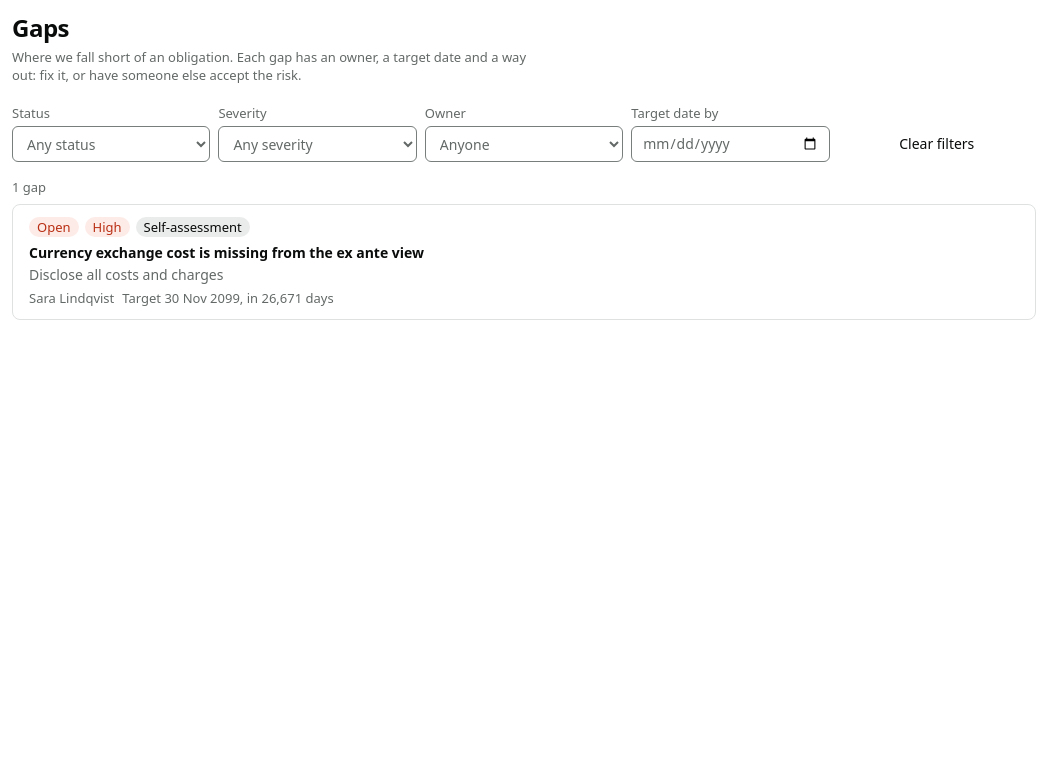
Test: the gaps list › lists each gap with its pills, obligation, entity, owner and target, and opens its record
Check: the text "Disclose all costs and charges" is shown, box [29,265,223,284]
Check: the text "Sara Lindqvist" is shown, box [29,289,114,307]
Click the button "Currency exchange cost is missing from the ex ante view" at [227, 253], box [29,243,424,263]
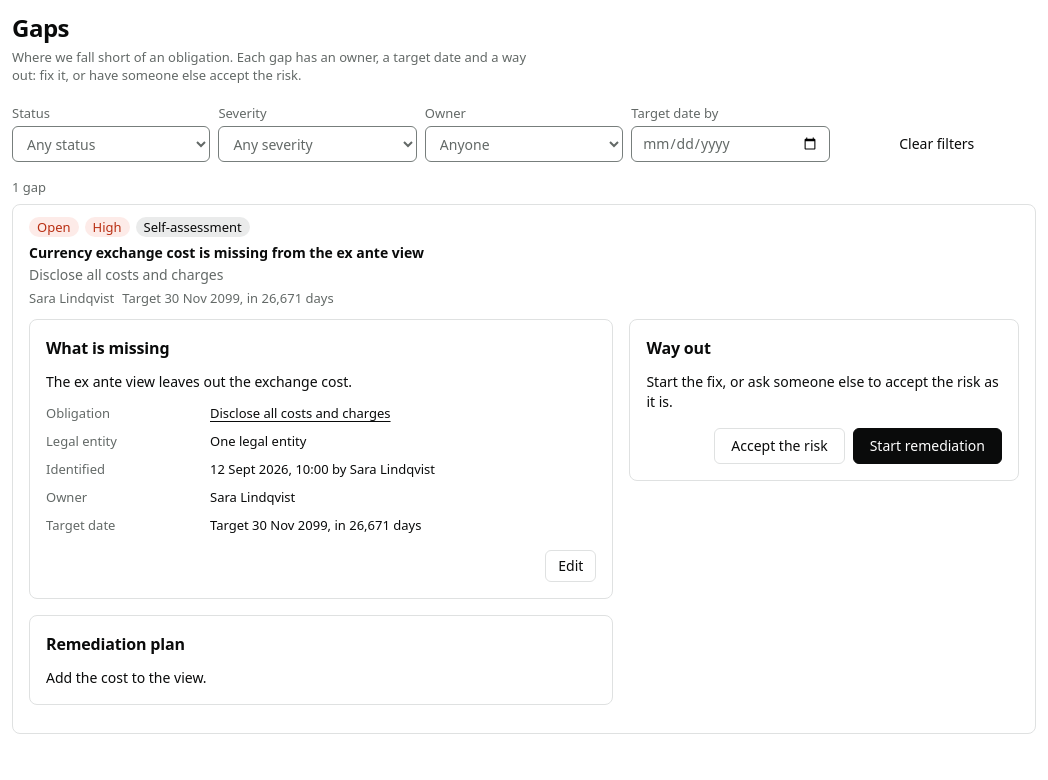
Check: the element that starts with "What is missing" is shown, box [29,319,1019,721]
Check: the heading "What is missing" is shown, box [46,337,169,359]
Check: the text "Add the cost to the view." is shown, box [46,668,207,687]
